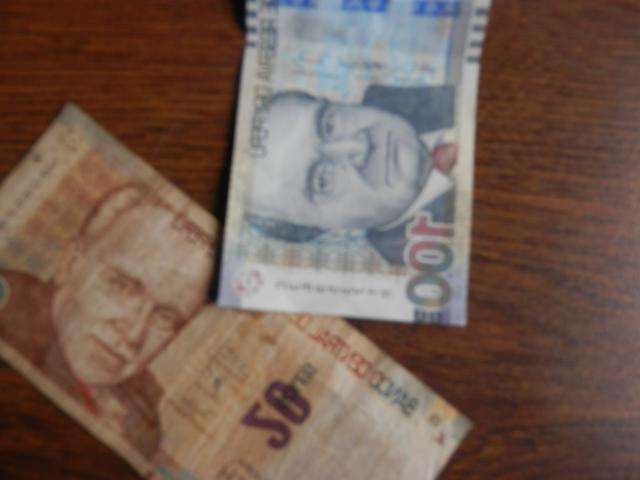B100: (217, 1, 491, 326)
B20: (2, 314, 473, 480)
